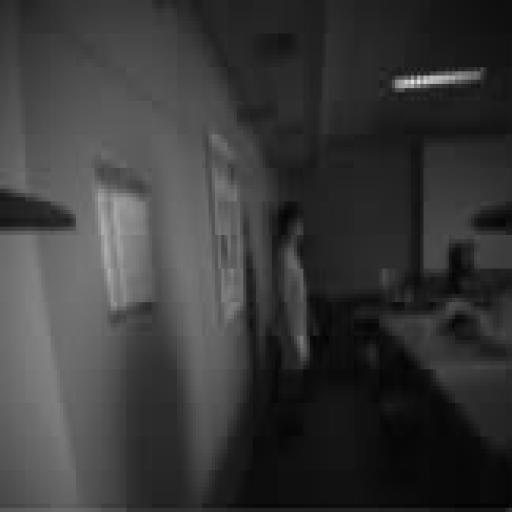human: (275, 202, 309, 432)
